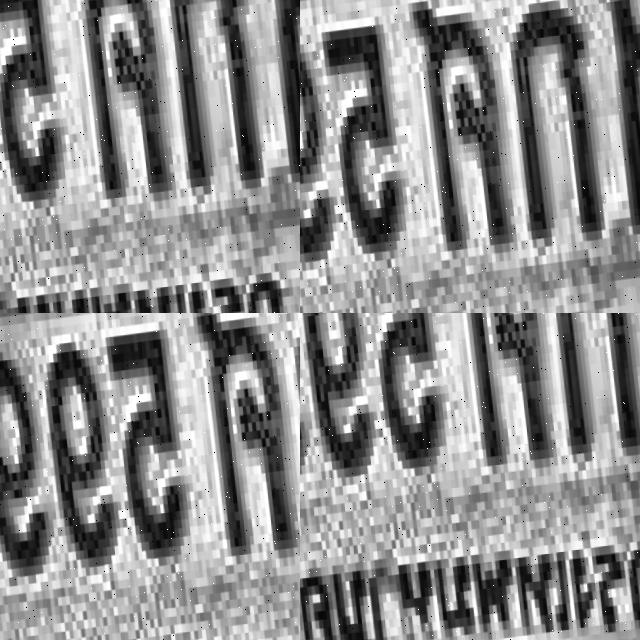license-plate: (300, 313, 640, 640), (305, 0, 640, 313), (0, 313, 300, 640), (0, 0, 300, 313)
